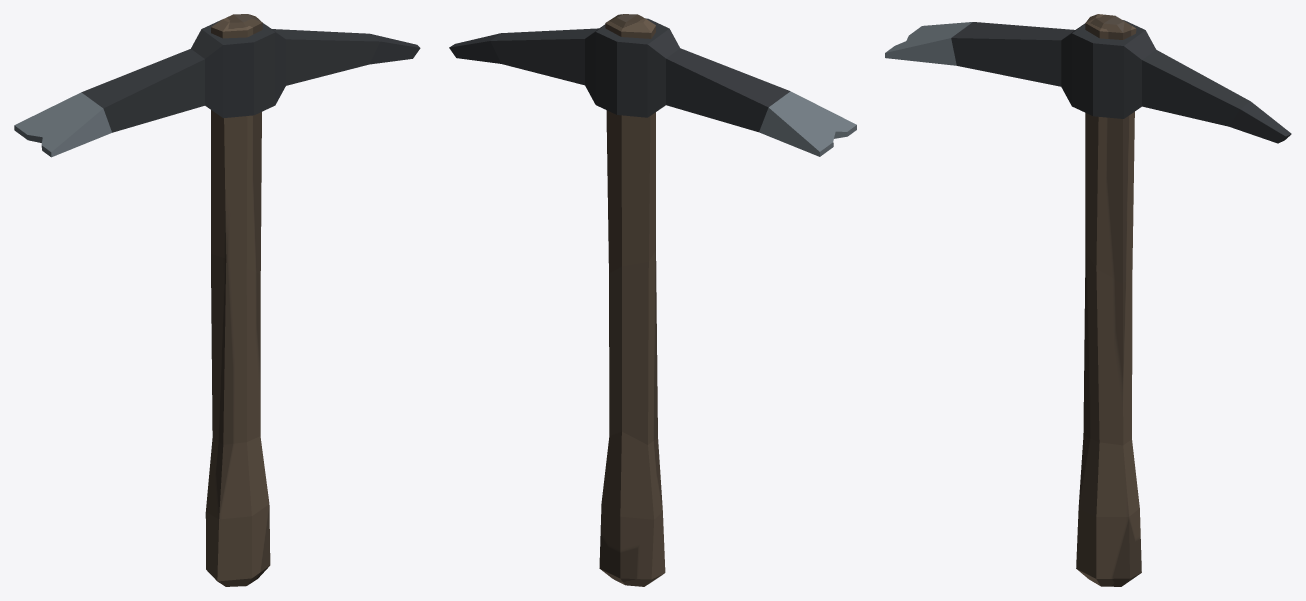
The model's file is Wep_Pickaxe_01.glb.
The picture shows the model from 3 angles, left to right: view 1: azimuth 30°, elevation 25°; view 2: azimuth 150°, elevation 25°; view 3: azimuth 330°, elevation 25°; orthographic projection.
Visible parts, largest first — view 1: SM_Gen_Wep_Pickaxe_01; view 2: SM_Gen_Wep_Pickaxe_01; view 3: SM_Gen_Wep_Pickaxe_01.
Part boxes in pixels (<box>): SM_Gen_Wep_Pickaxe_01: <box>14,14,420,586</box>; SM_Gen_Wep_Pickaxe_01: <box>449,14,856,586</box>; SM_Gen_Wep_Pickaxe_01: <box>885,14,1291,586</box>.
Bounding box in the file's own units: 0.5308 × 0.7374 × 0.088.
Materials: 1 (1 with a texture image).
